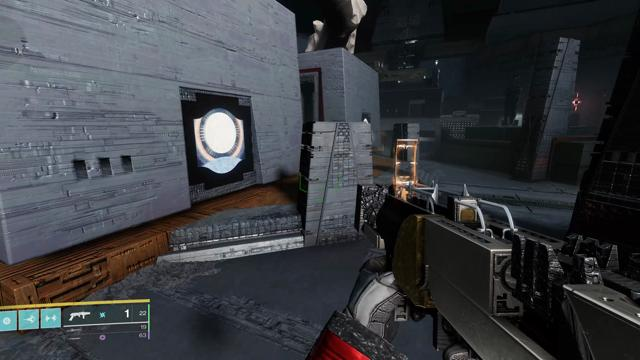traveler: (193, 108, 247, 174)
